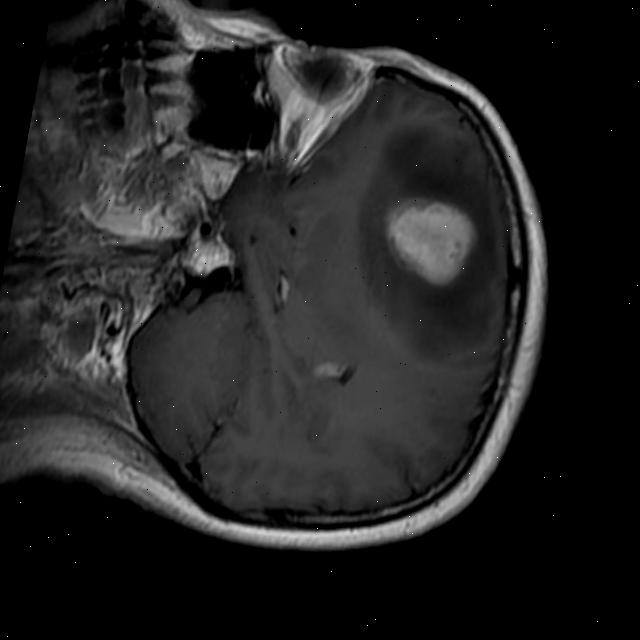Meningioma: (369, 184, 486, 298)
